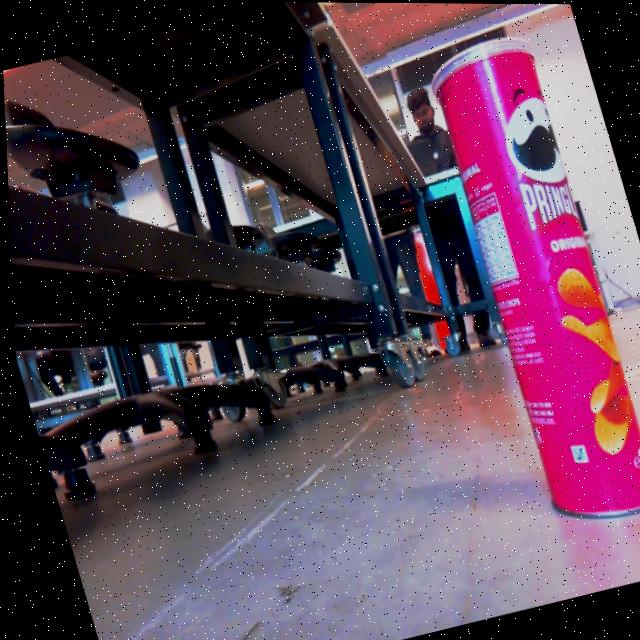redpringles: (411, 19, 640, 542)
